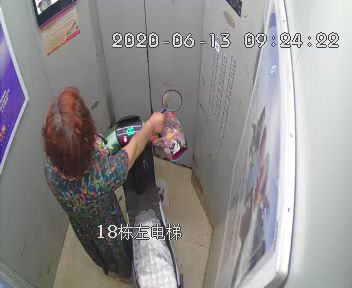Electric-bicycle: (87, 88, 182, 288)
